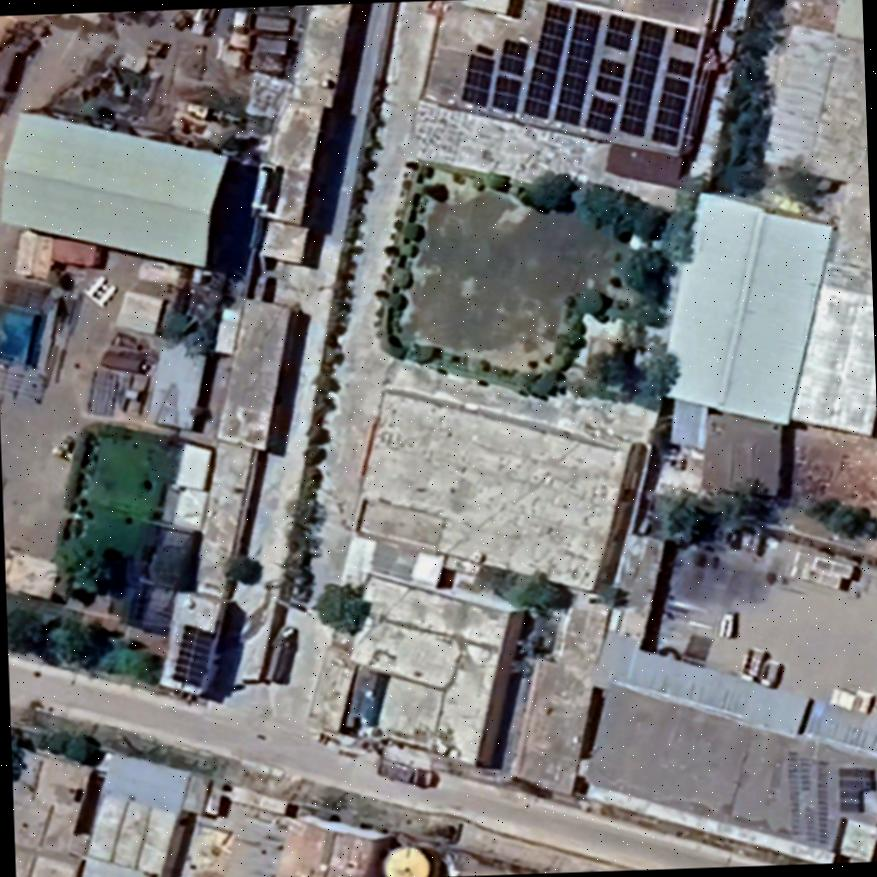Solarpanel: (520, 0, 574, 123), (550, 6, 604, 128), (617, 17, 670, 141), (648, 53, 698, 149), (489, 32, 532, 118), (170, 622, 215, 691), (460, 52, 495, 110), (600, 10, 638, 54), (592, 55, 629, 98), (584, 92, 621, 133), (670, 26, 704, 51)
